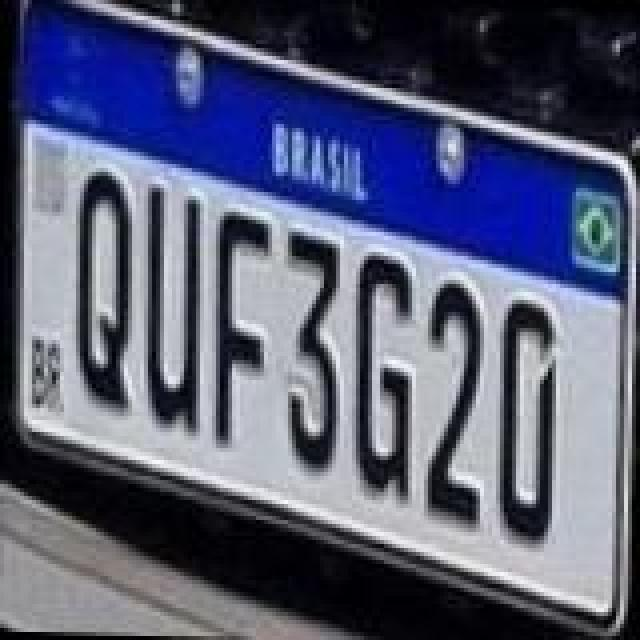2: (420, 278, 488, 530)
3: (278, 226, 346, 470)
D: (490, 292, 558, 540)
F: (206, 208, 274, 444)
G: (346, 248, 418, 500)
Q: (64, 164, 136, 412)
U: (136, 178, 208, 434)
